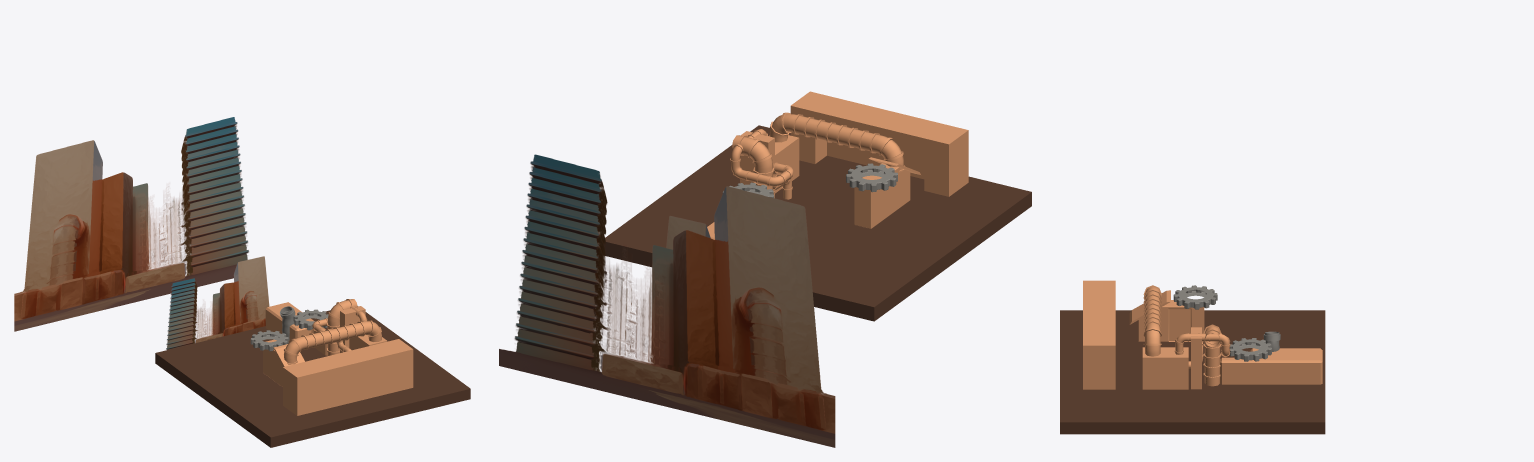
Rendered from seashore.gltf.
3 renders of one model, left to right at view 1: azimuth 30°, elevation 25°; view 2: azimuth 150°, elevation 25°; view 3: azimuth 270°, elevation 25°, orthographic. The views are drawn at different scales.
Parts seen in each view (by area): view 1: background_buildings_01, Ground, Cube.016, background_buildings_01.001, Cube.015, Cube.004, Cube.001, Gear.003, Gear.005; view 2: background_buildings_01, Ground, Cube.016, Cube.015, Cube.001, Cube.014, Gear.003, Cube.002, background_buildings_01.001, Cube.005; view 3: Ground, Cube.016, Cube.004, Cube.015, Cube.002, Cube.001, Gear.003, Gear.005, Cube.014, Cube.005.
Boxes of the visible parts, x1,y1,x2,y2 form: background_buildings_01: (14,117,248,331); Ground: (155,306,470,447); Cube.016: (283,339,413,415); background_buildings_01.001: (166,256,269,349); Cube.015: (284,299,381,364); Cube.004: (265,302,327,355); Cube.001: (263,339,283,386); Gear.003: (250,330,288,351); Gear.005: (293,309,328,330); background_buildings_01: (499,154,835,447); Ground: (603,125,1031,321); Cube.016: (790,91,968,196); Cube.015: (732,112,904,193); Cube.001: (854,163,910,228); Cube.014: (730,129,793,199); Gear.003: (846,163,897,192); Cube.002: (768,135,799,193); background_buildings_01.001: (666,216,710,249); Cube.005: (740,131,774,198); Ground: (1060,310,1325,434); Cube.016: (1083,280,1115,389); Cube.004: (1220,348,1322,384); Cube.015: (1143,285,1221,386); Cube.002: (1142,347,1188,389); Cube.001: (1138,300,1204,341); Gear.003: (1173,285,1217,309); Gear.005: (1229,338,1271,361); Cube.014: (1174,333,1230,368); Cube.005: (1191,327,1201,389).
Bounding box in the file's own units: 51.26 × 49.66 × 69.39.
6 materials, 1 textured.
